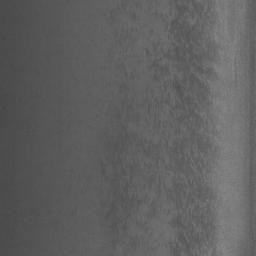Silk spot: (101, 0, 225, 256), (104, 0, 138, 26)
